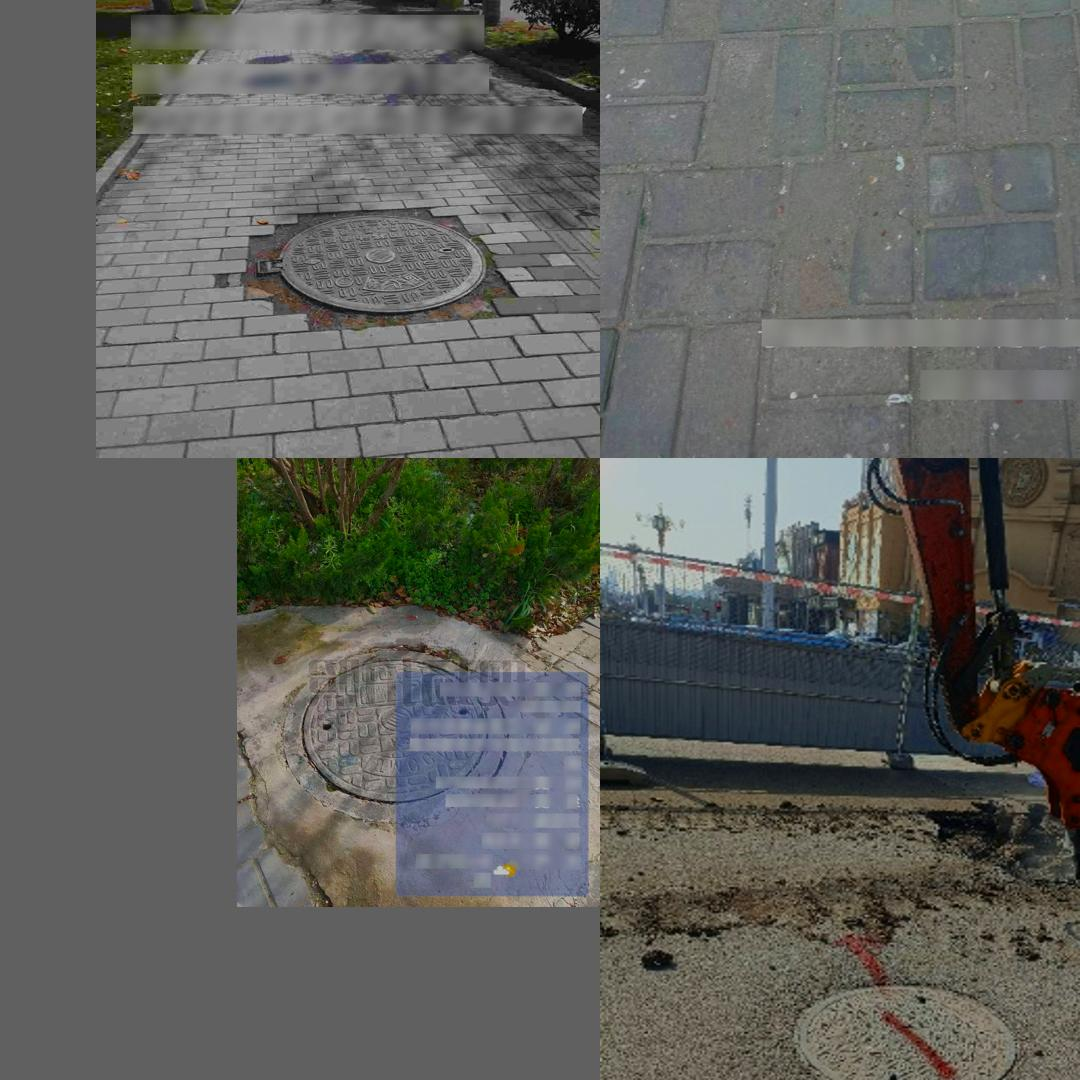good: (282, 651, 506, 824), (255, 214, 487, 313), (800, 978, 1019, 1080)
